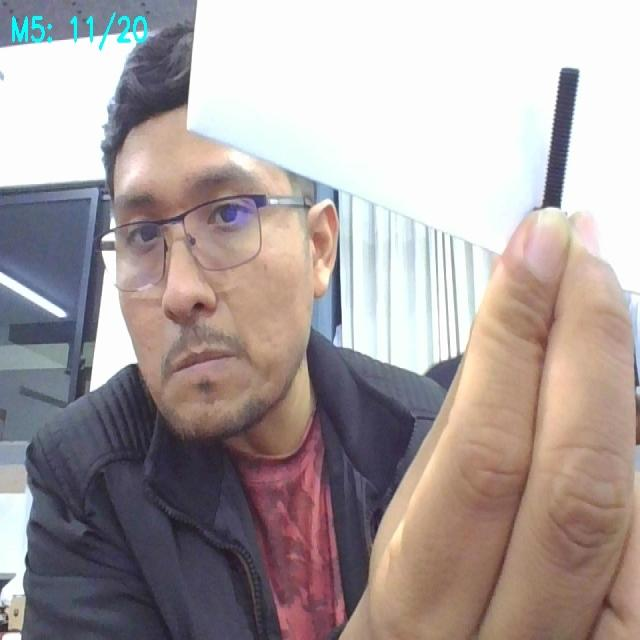vastago: (541, 69, 578, 207)
